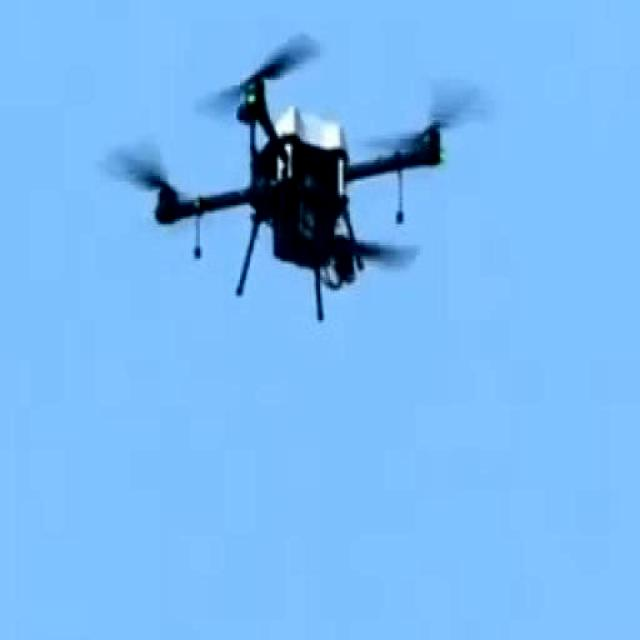bird: (102, 0, 515, 308)
